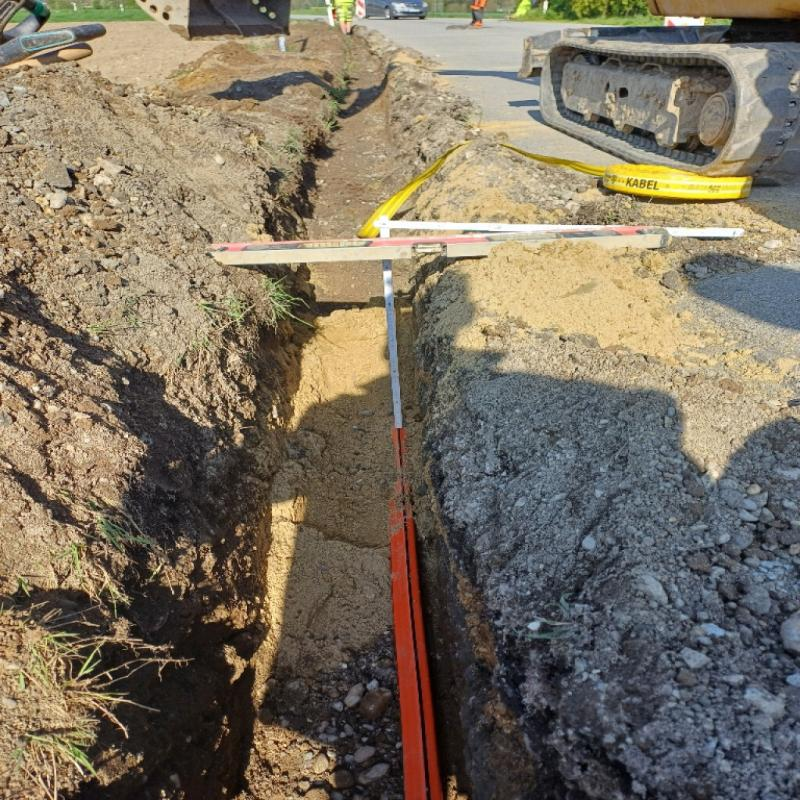Orang-Speednetrohrchen: (383, 427, 444, 800)
